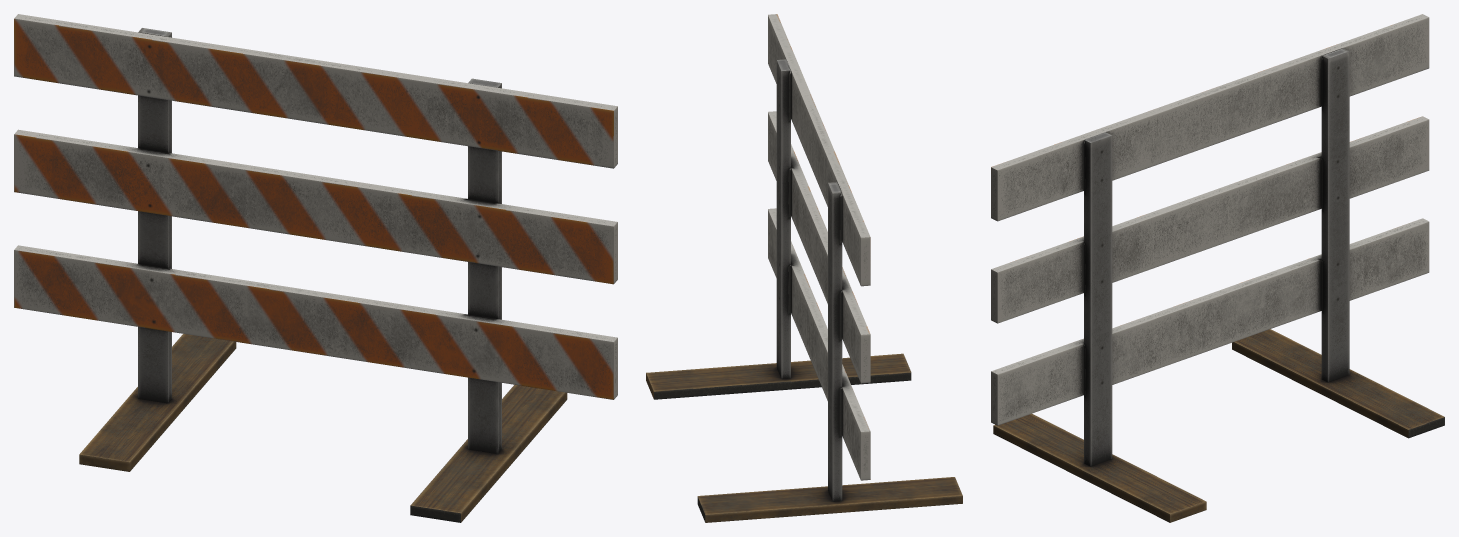
File: RoadBarrier.fbx
The picture shows the model from 3 angles, left to right: view 1: azimuth 30°, elevation 25°; view 2: azimuth 150°, elevation 25°; view 3: azimuth 270°, elevation 25°; orthographic projection. The views are drawn at different scales.
Parts seen in each view (by area): view 1: Cylinder003; view 2: Cylinder003; view 3: Cylinder003.
Part boxes in pixels (x1,y1,x2,y2): Cylinder003: [14, 14, 617, 522]; Cylinder003: [646, 14, 962, 522]; Cylinder003: [991, 14, 1444, 522].
Bounding box in the file's own units: 571 × 474 × 587.
